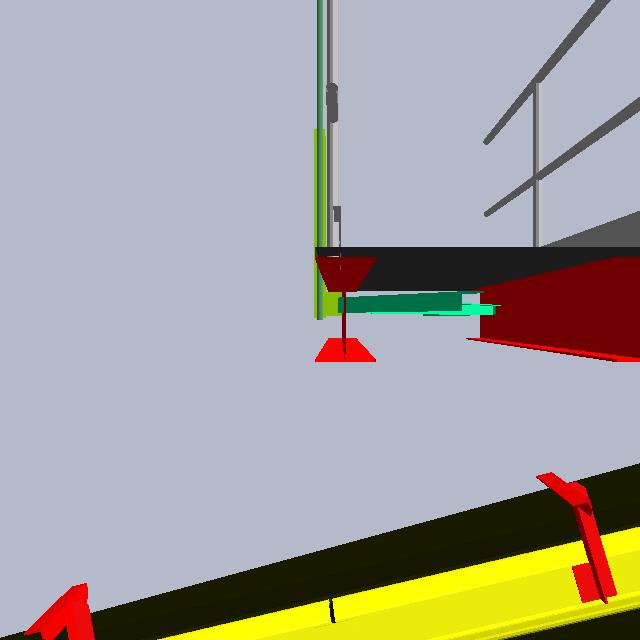Poste: (314, 1, 324, 325)
Soporte: (303, 122, 349, 329)
